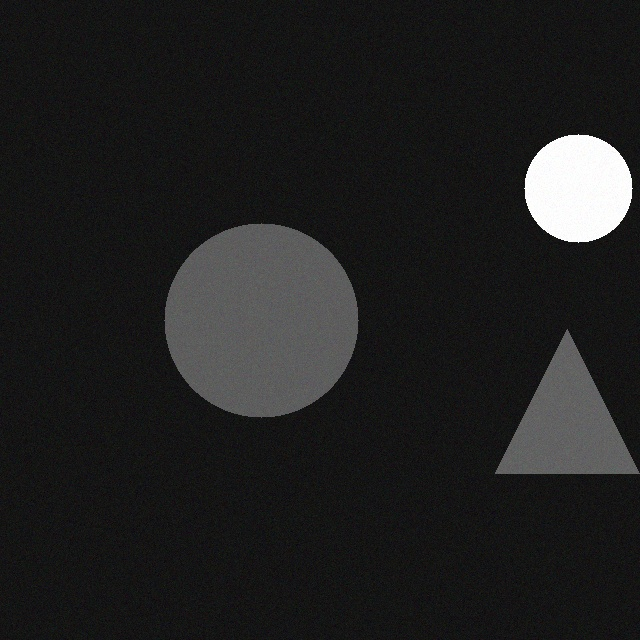circle: (152, 211, 346, 405), (512, 122, 620, 230)
triangle: (483, 317, 627, 461)
